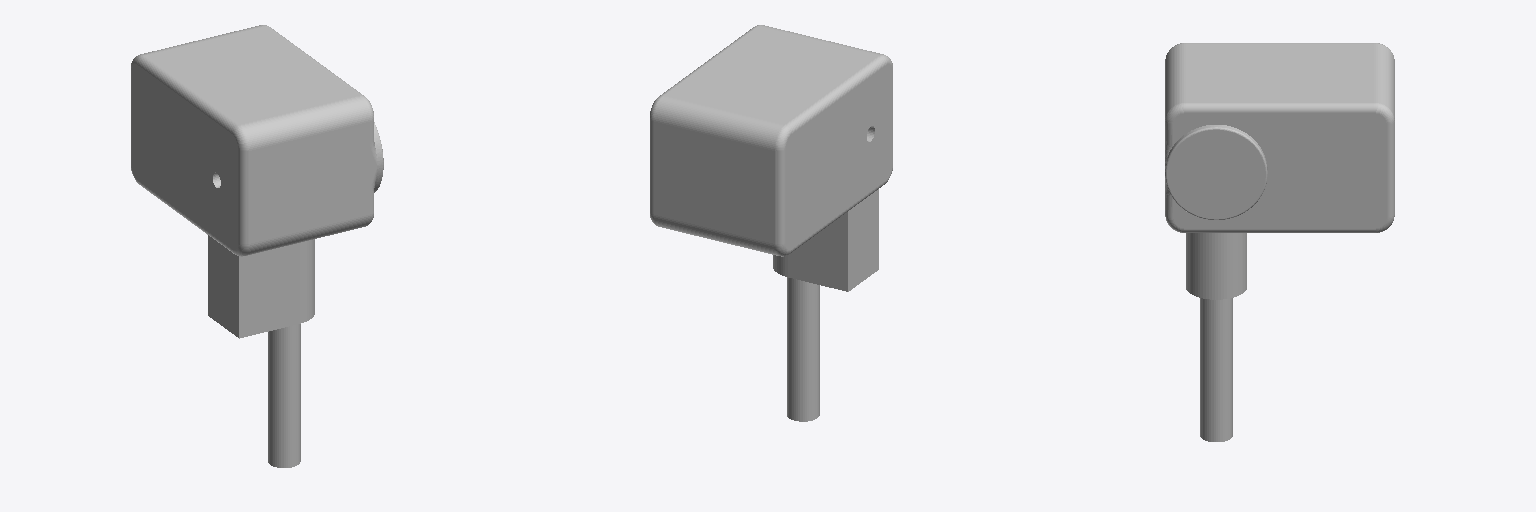
File: ShoulderRollStructureLeft.obj
3 views of the same model, side by side, from view 1: azimuth 30°, elevation 25°; view 2: azimuth 150°, elevation 25°; view 3: azimuth 270°, elevation 25° (orthographic).
Visible parts, largest first — view 1: ShoulderRollStructureLeft; view 2: ShoulderRollStructureLeft; view 3: ShoulderRollStructureLeft.
Part boxes in pixels (x1,y1,x2,y2): ShoulderRollStructureLeft: (131,25,383,467); ShoulderRollStructureLeft: (650,25,892,421); ShoulderRollStructureLeft: (1165,43,1394,441).
Bounding box in the file's own units: 0.04 × 0.0975 × 0.056.